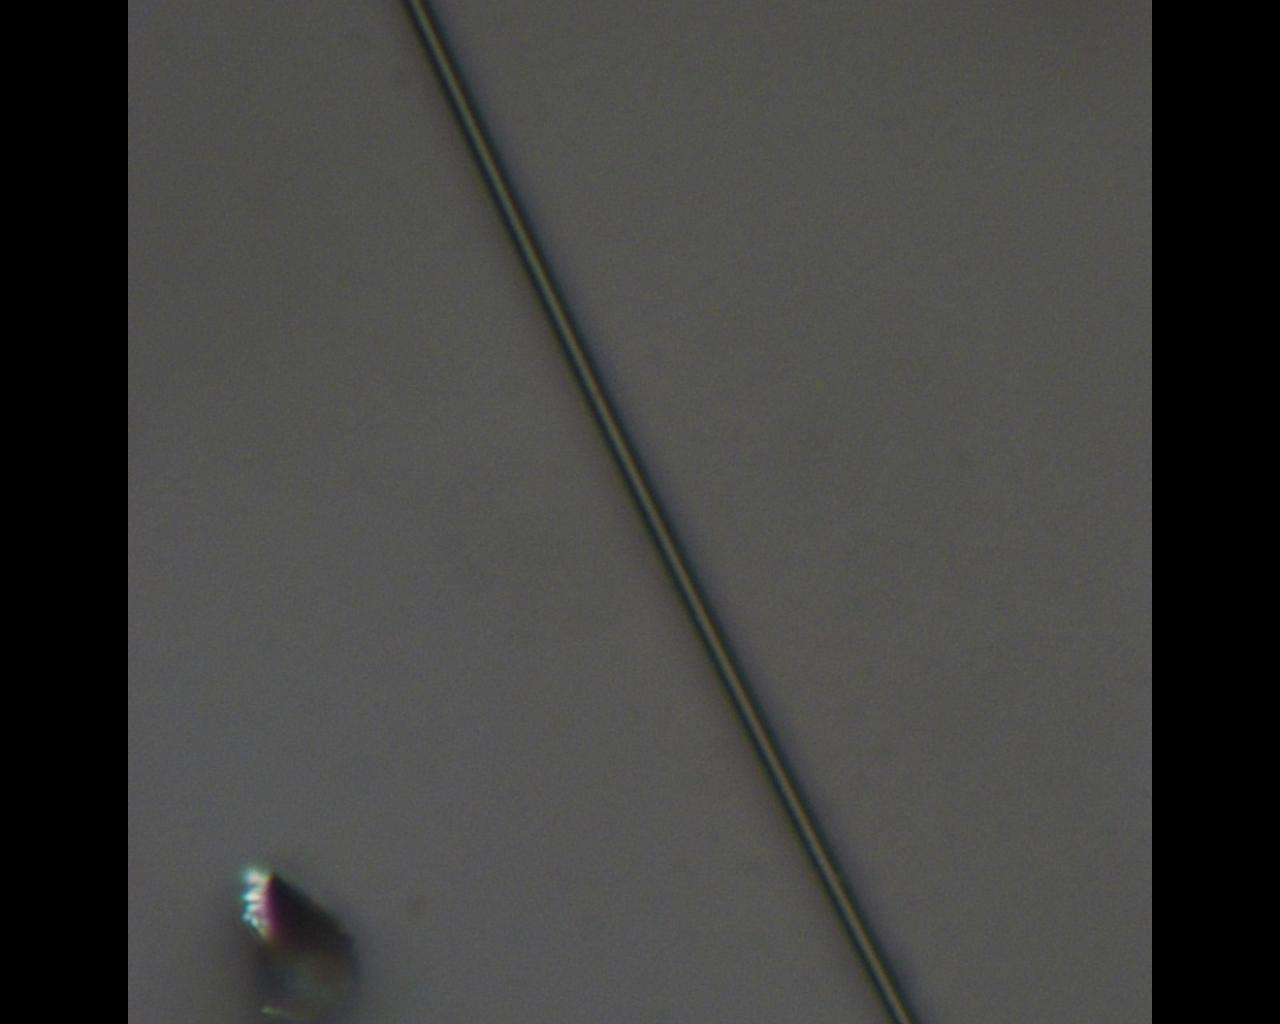fiber: (417, 0, 879, 1024)
